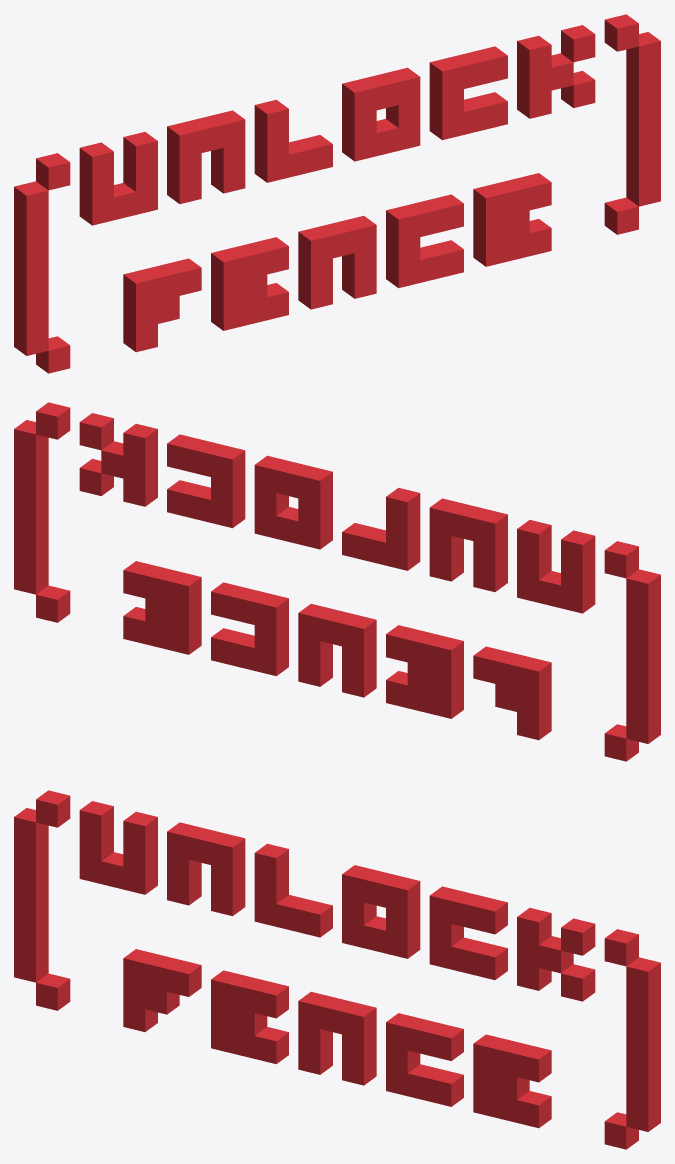
Rendered from UnlockFence.obj.
3 views of the same model, one above another, from view 1: azimuth 30°, elevation 25°; view 2: azimuth 150°, elevation 25°; view 3: azimuth 330°, elevation 25° (orthographic).
Parts seen in each view (by area): view 1: UnlockFence; view 2: UnlockFence; view 3: UnlockFence.
Boxes of the visible parts, box(x1,y1,x2,y2) form: UnlockFence: box(14, 14, 660, 373); UnlockFence: box(14, 402, 660, 761); UnlockFence: box(14, 790, 660, 1149).
Bounding box in the file's own units: 29 × 9 × 1.
1 material, 1 textured.
